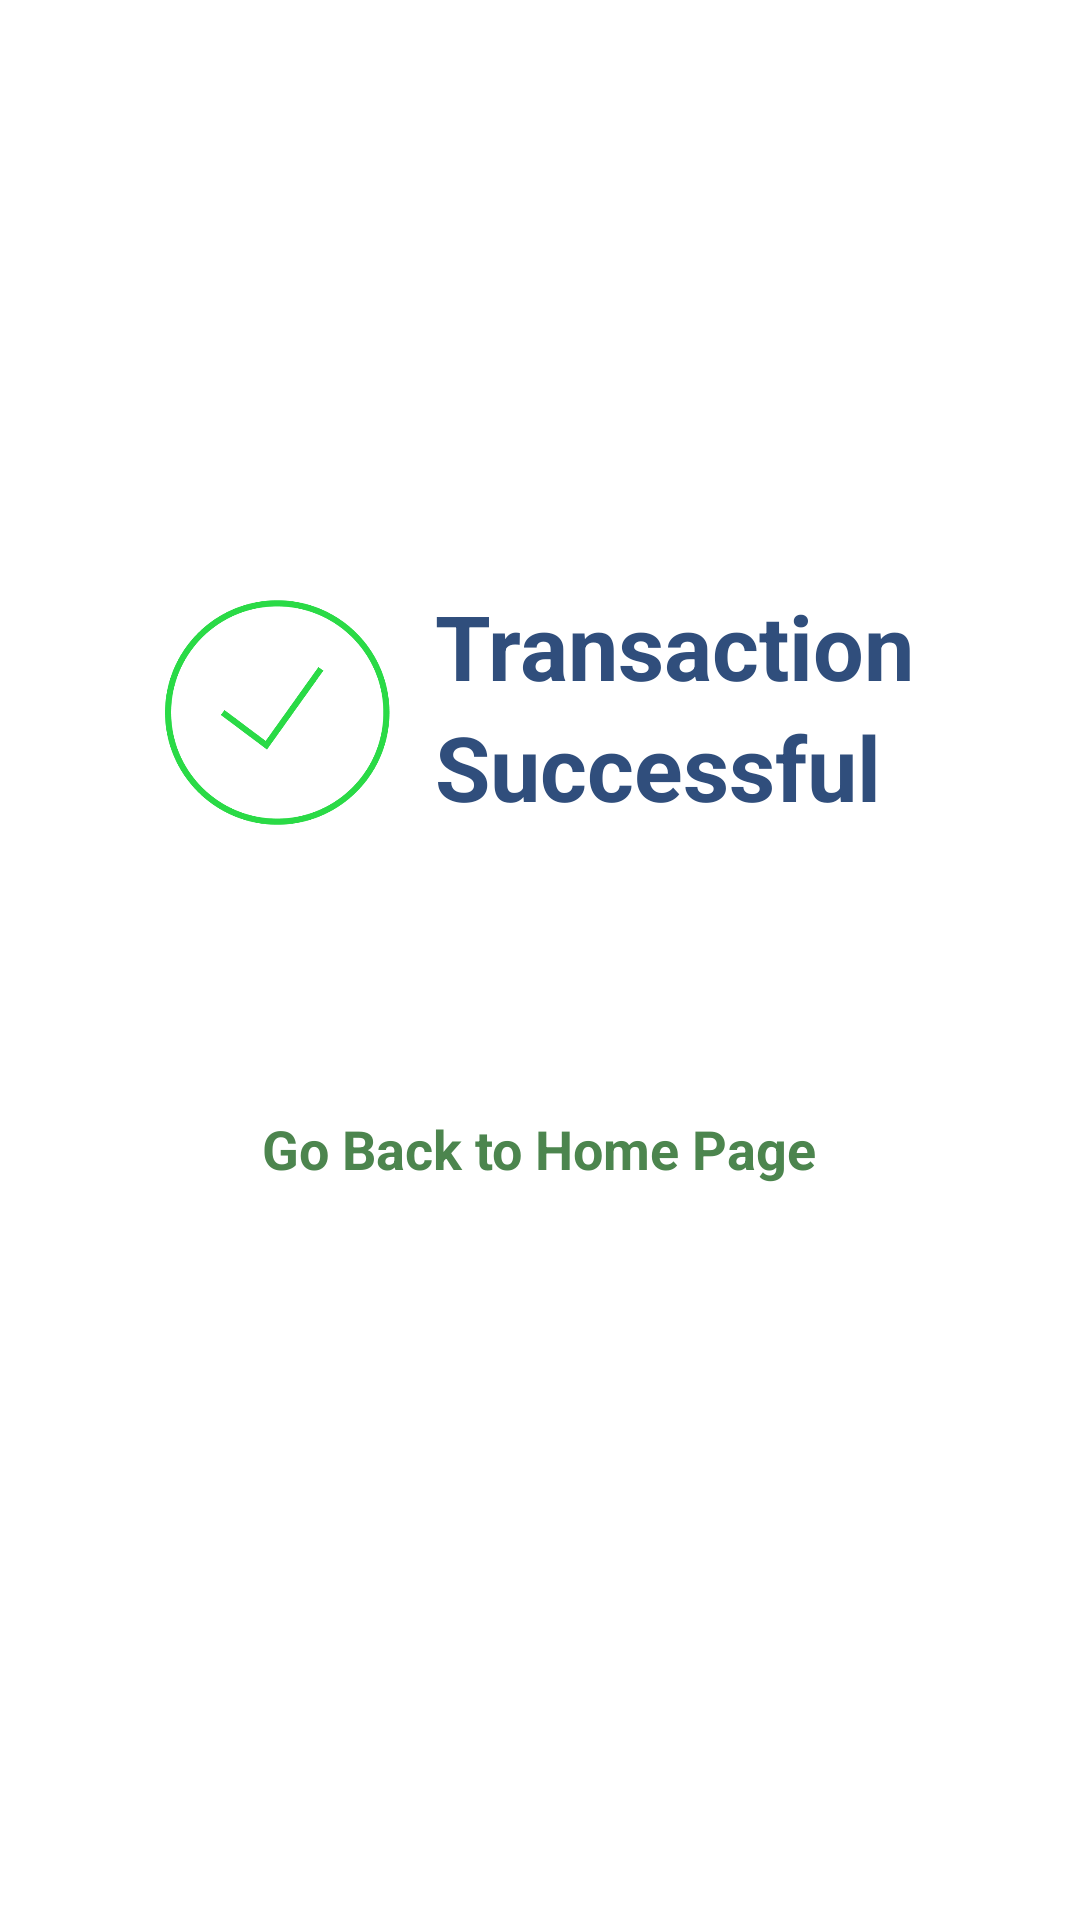

Where to tap for icons on this 1080 x 1920 app screen, as (x,y):
payment success: (277,712)
